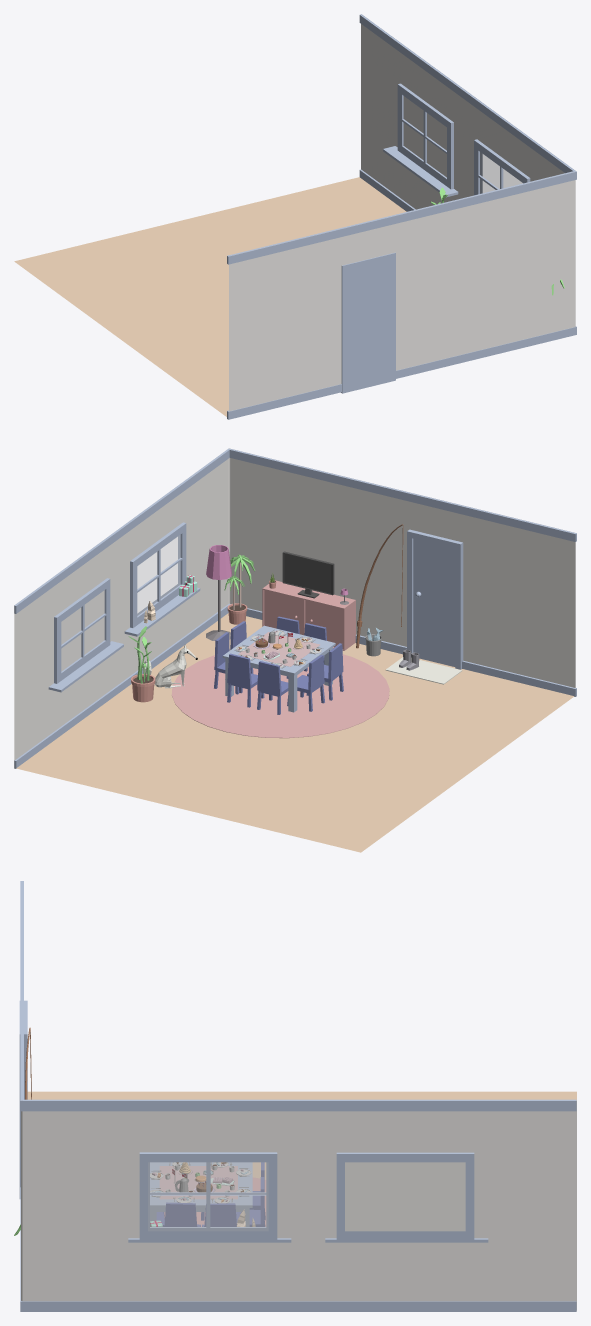
Rendered from Kaffemikv3.glb.
3 views of the same model, one above another, from view 1: azimuth 30°, elevation 25°; view 2: azimuth 150°, elevation 25°; view 3: azimuth 270°, elevation 25° (orthographic). The views are drawn at different scales.
Visible parts, largest first — view 1: Room, Door, Ceilingpanel, Window2, Floorpanel, Window; view 2: Room, Rug, Door, Ceilingpanel, Window2, Window, Cabinet, Floorpanel, TV, Table, Floor lamp, Plane (+8 smaller); view 3: Room, Window, Window2, Ceilingpanel, Floorpanel, Table, Plane, Chair.004, Door, Chair.005.
Boxes of the visible parts, x1,y1,x2,y2 form: Room: (14,24,575,416); Door: (341,252,395,393); Ceilingpanel: (227,14,576,264); Window2: (383,83,458,197); Floorpanel: (227,169,576,419); Window: (474,139,530,195); Room: (14,448,575,852); Rug: (171,654,389,738); Door: (407,529,463,669); Ceilingpanel: (14,448,576,613); Window2: (48,578,123,692); Window: (124,522,200,636); Cabinet: (262,580,355,650); Floorpanel: (14,603,576,768); TV: (282,551,334,598); Table: (222,625,335,712); Floor lamp: (206,545,231,640); Plane: (238,632,320,666); Room: (21,1091,576,1310); Window: (128,1152,291,1242); Window2: (325,1152,488,1242); Ceilingpanel: (20,881,576,1111); Floorpanel: (20,1187,576,1311); Table: (150,1162,252,1226); Plane: (159,1166,237,1199); Chair.004: (164,1202,200,1226); Door: (19,1000,27,1198); Chair.005: (202,1203,236,1226).
Size of the model in its own units: 17.17 by 7.75 by 18.5.
Materials: 38 (2 with a texture image).
